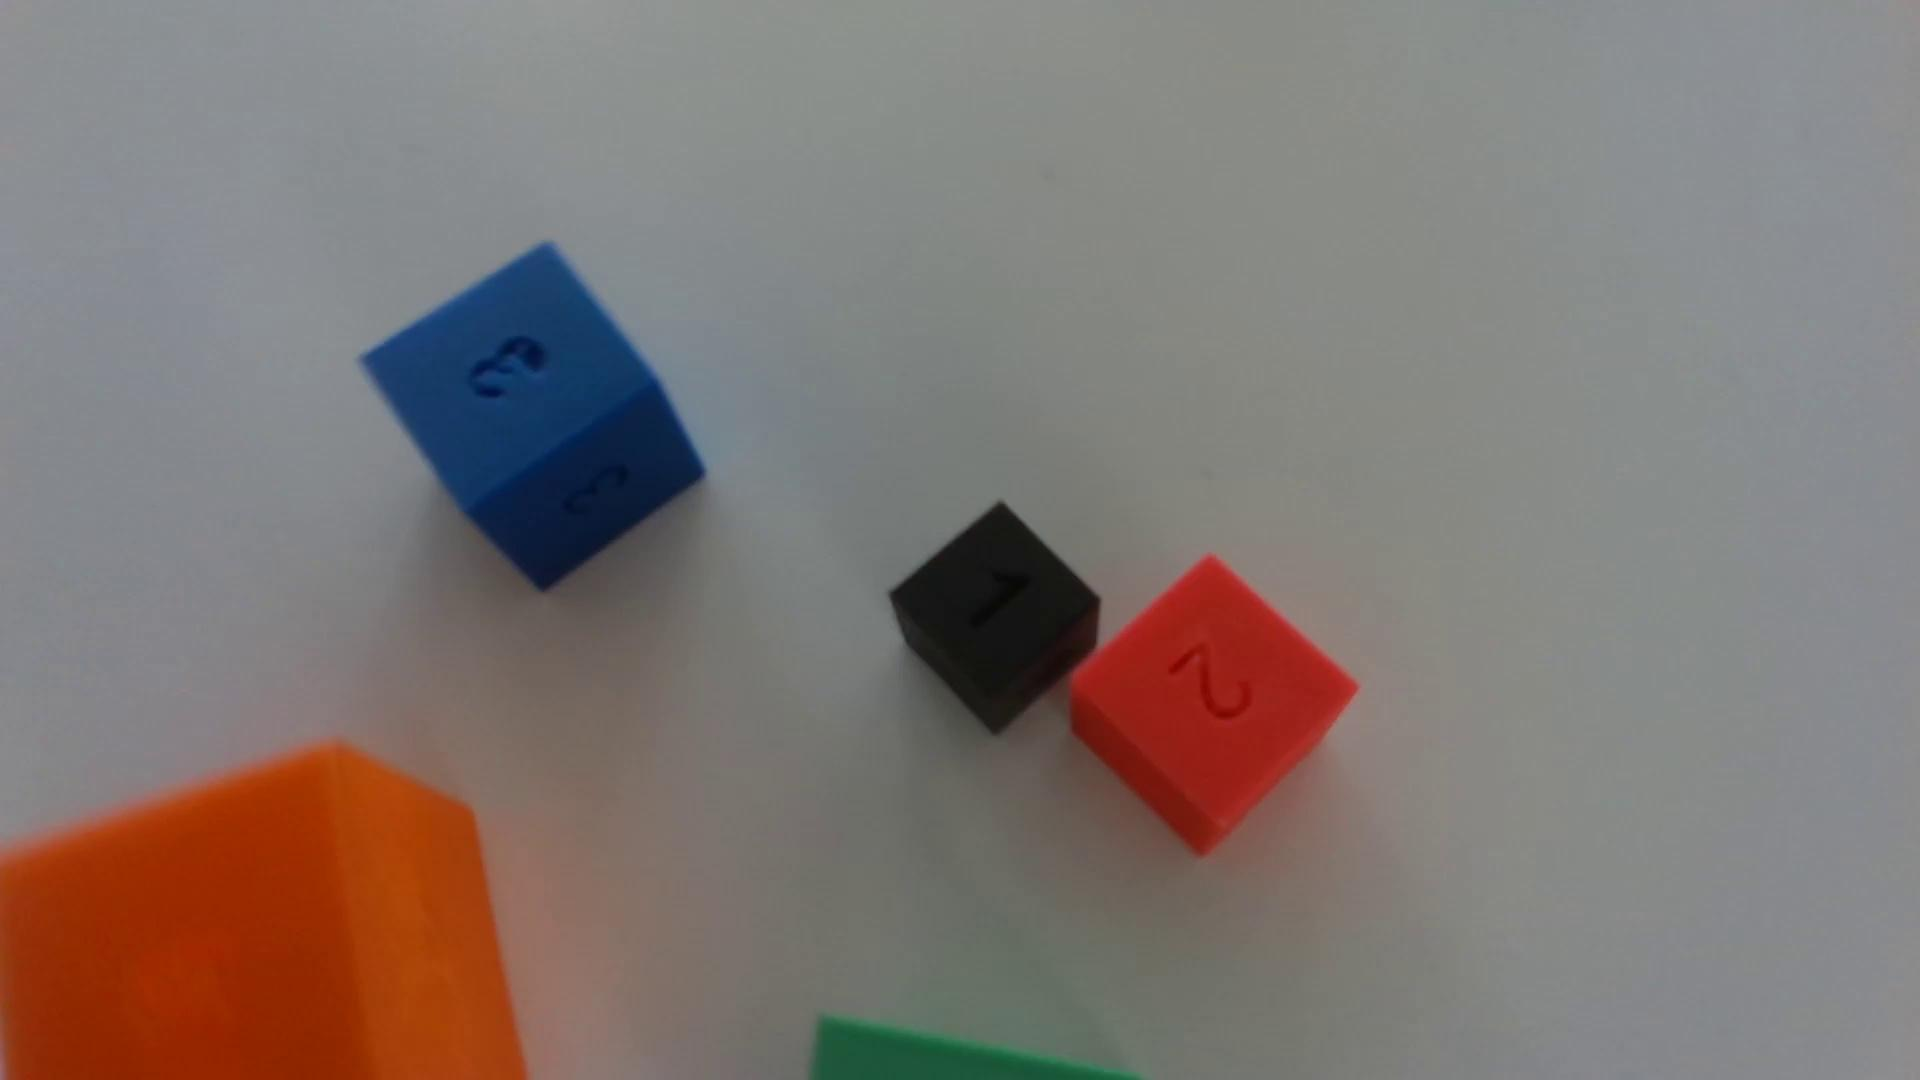black: (889, 504, 1100, 735)
blue: (363, 247, 703, 589)
green: (810, 1018, 1131, 1080)
orange: (0, 746, 526, 1080)
red: (1069, 558, 1356, 855)
